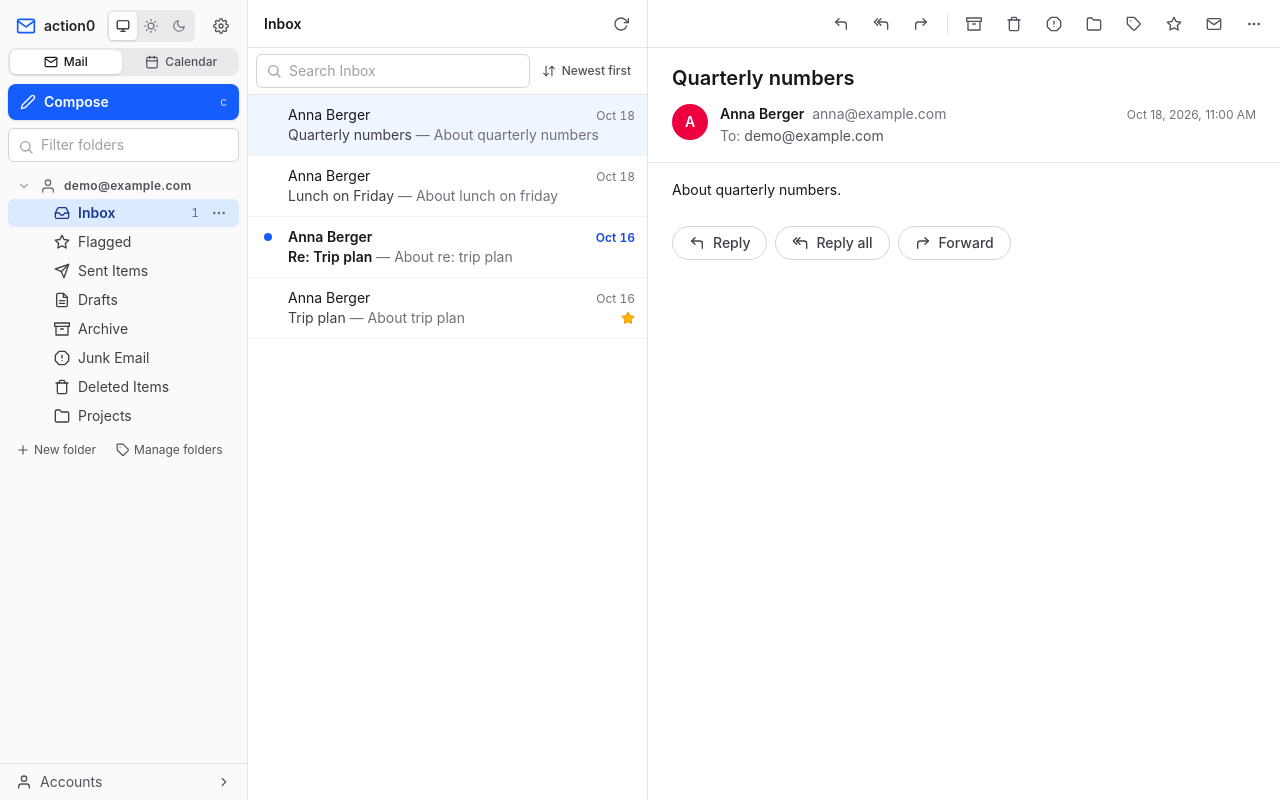
an account with folders (Outlook) › moves with v and offers to create a folder there; l picks categories
The image size is (1280, 800).
Type keys "l"
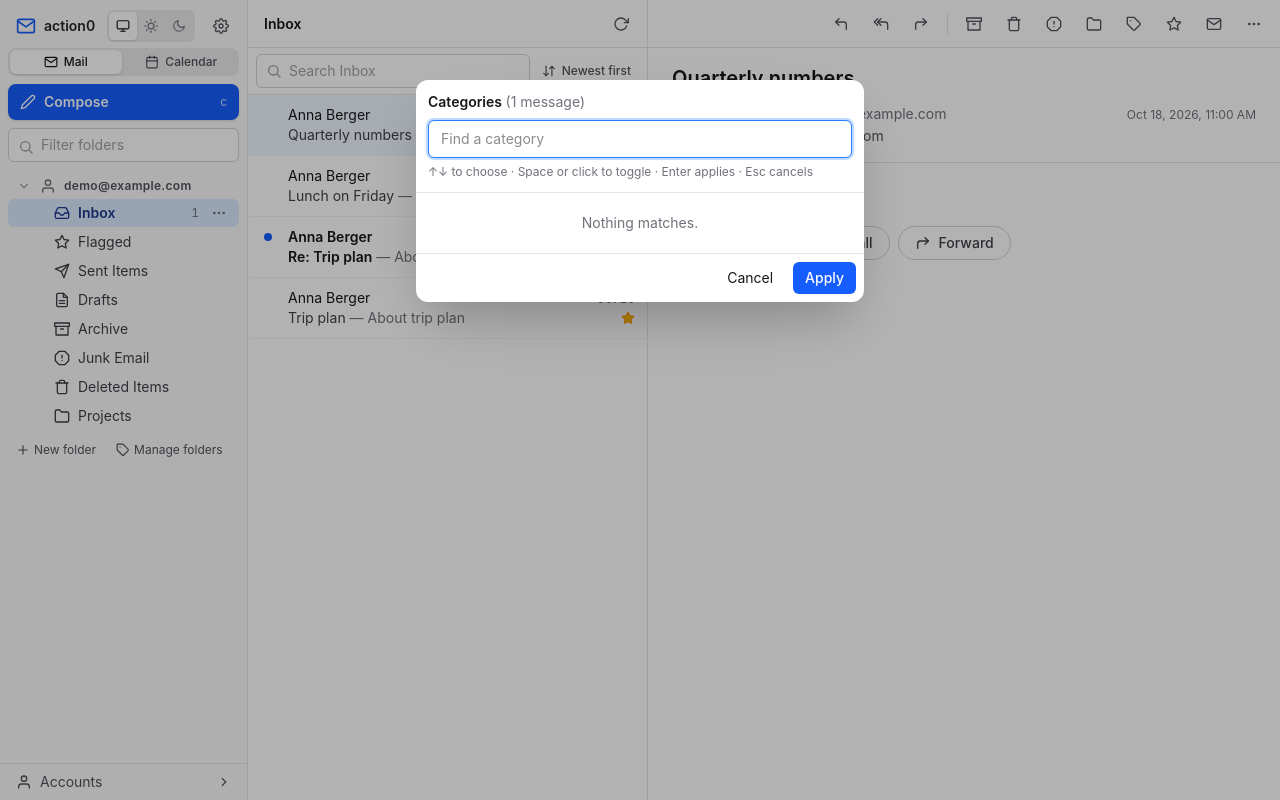
Now the dialog "Categories" is shown, box [416, 80, 864, 302]
Press Escape
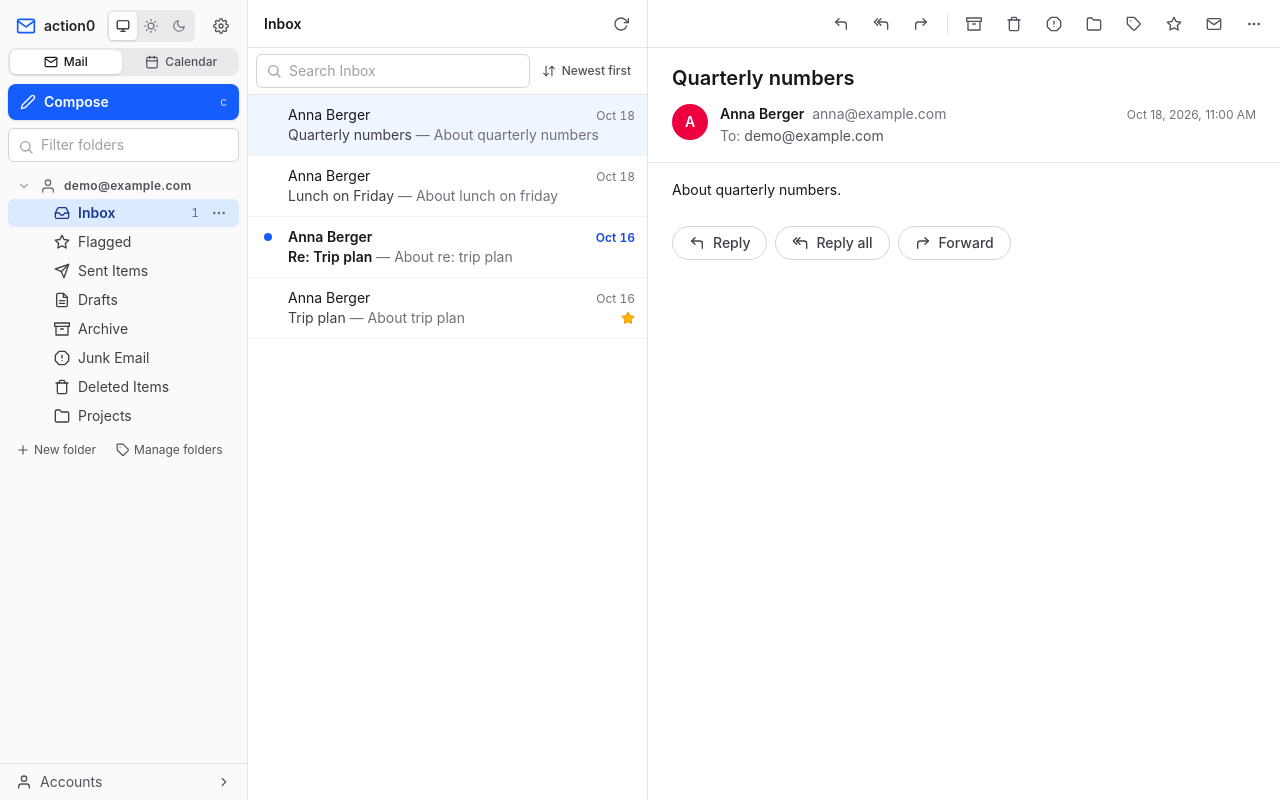
Now the dialog is gone
Type keys "v"
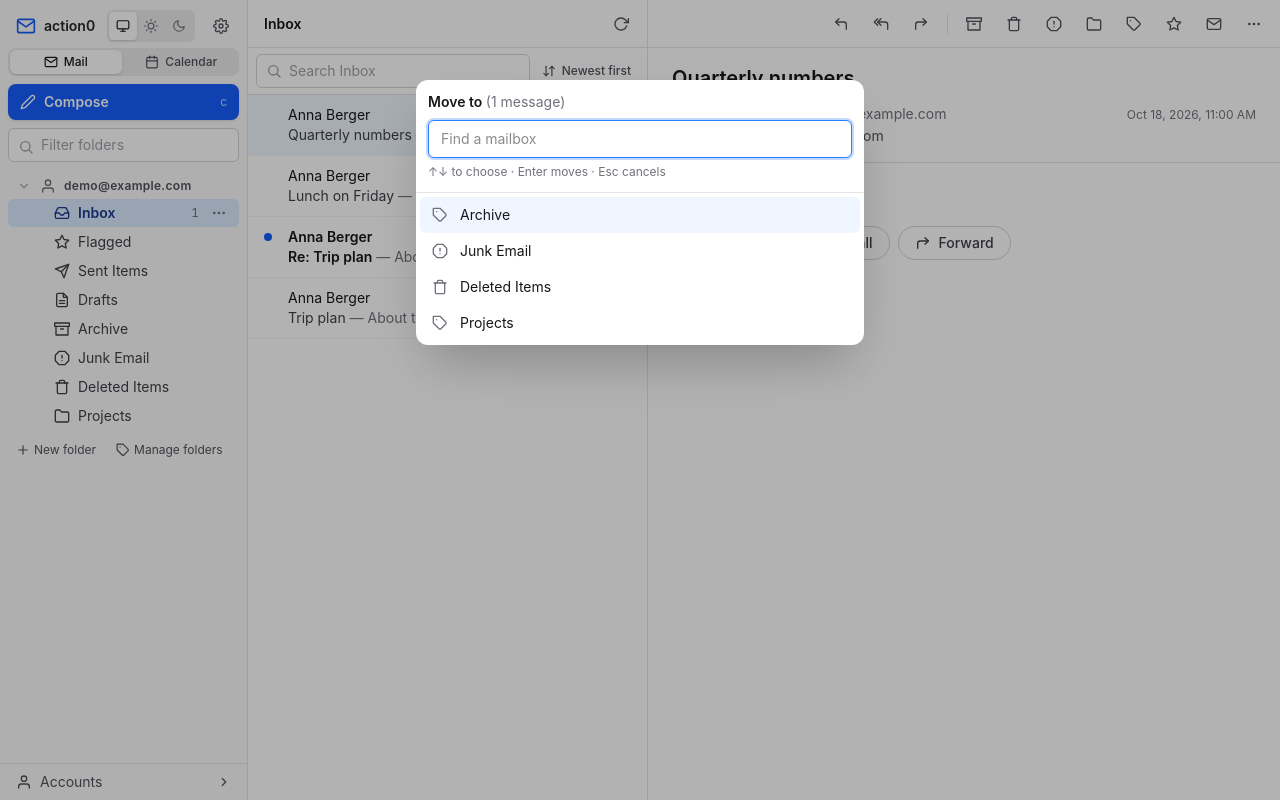
Type keys "Clients"
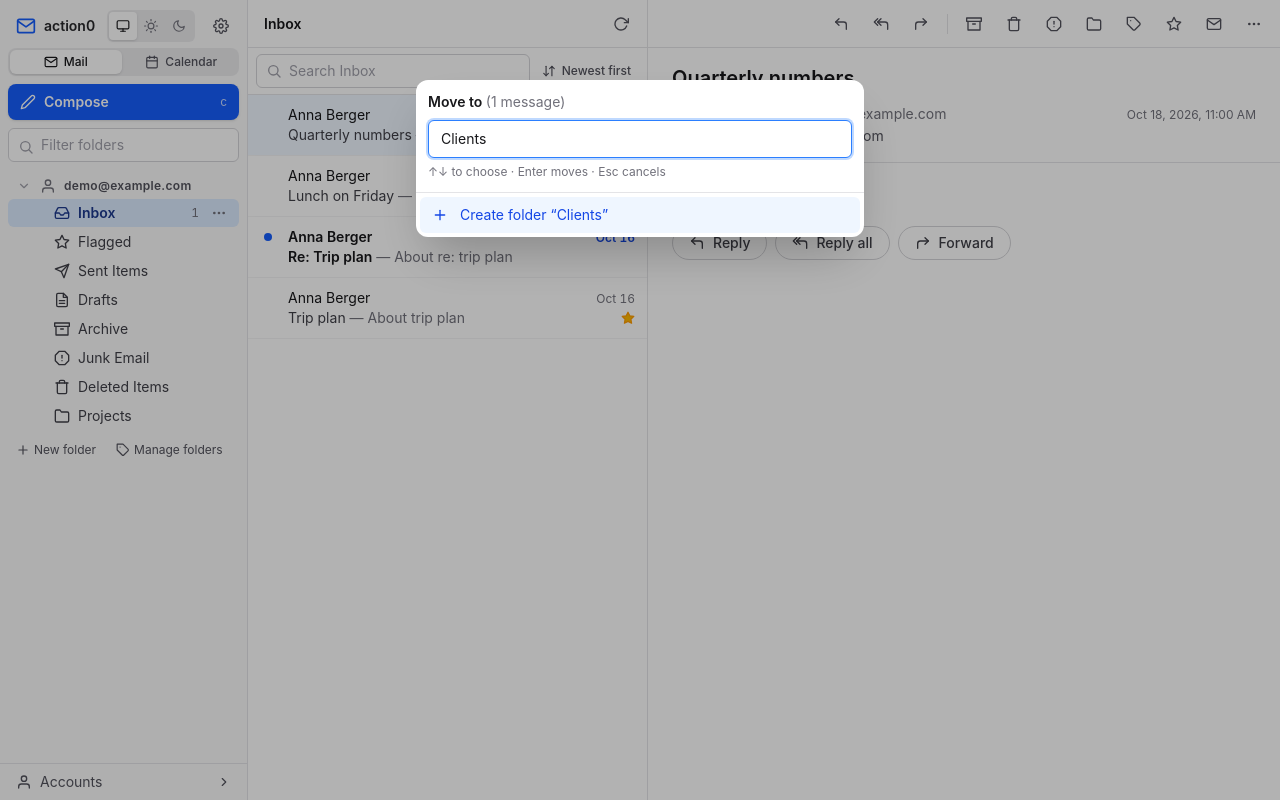
Click the option "Create folder “Clients”": point(534, 214) [420, 197, 860, 233]
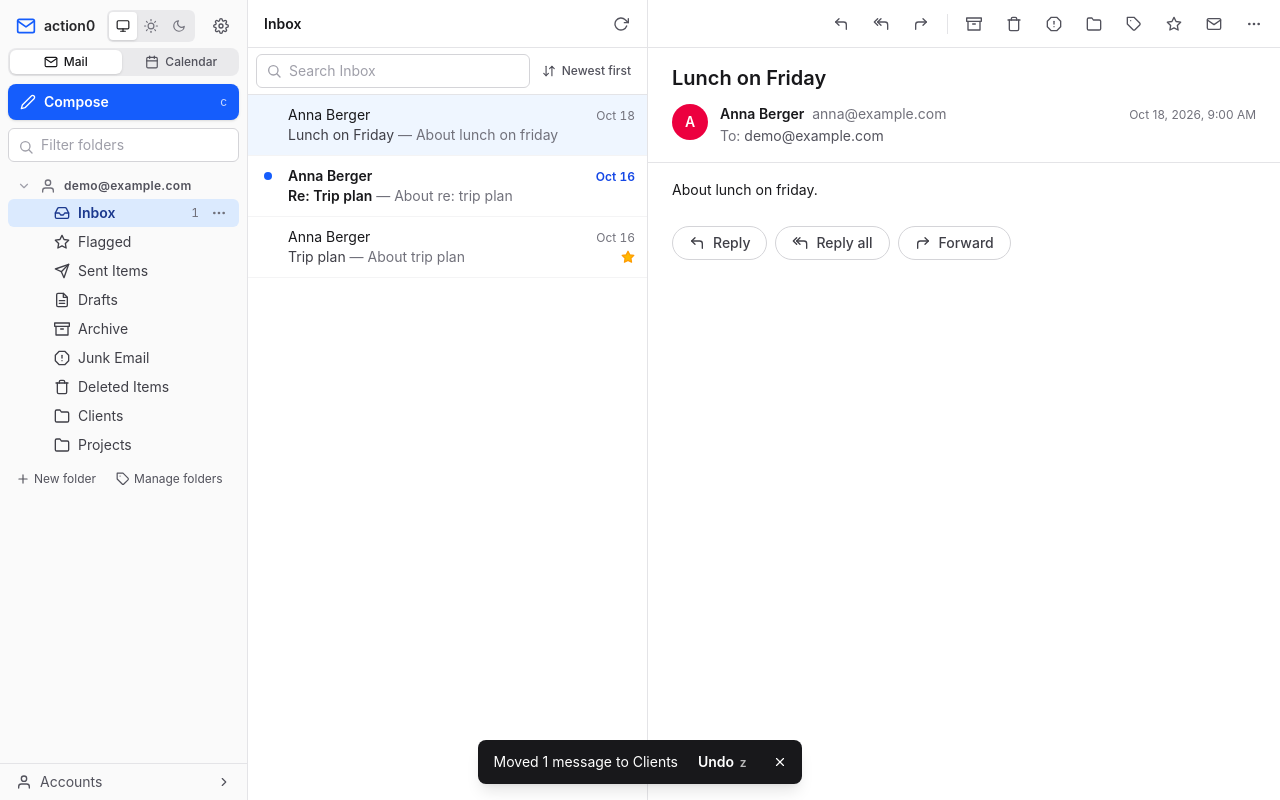
Now the text "Moved 1 message to Clients" is shown, box [494, 752, 678, 772]
